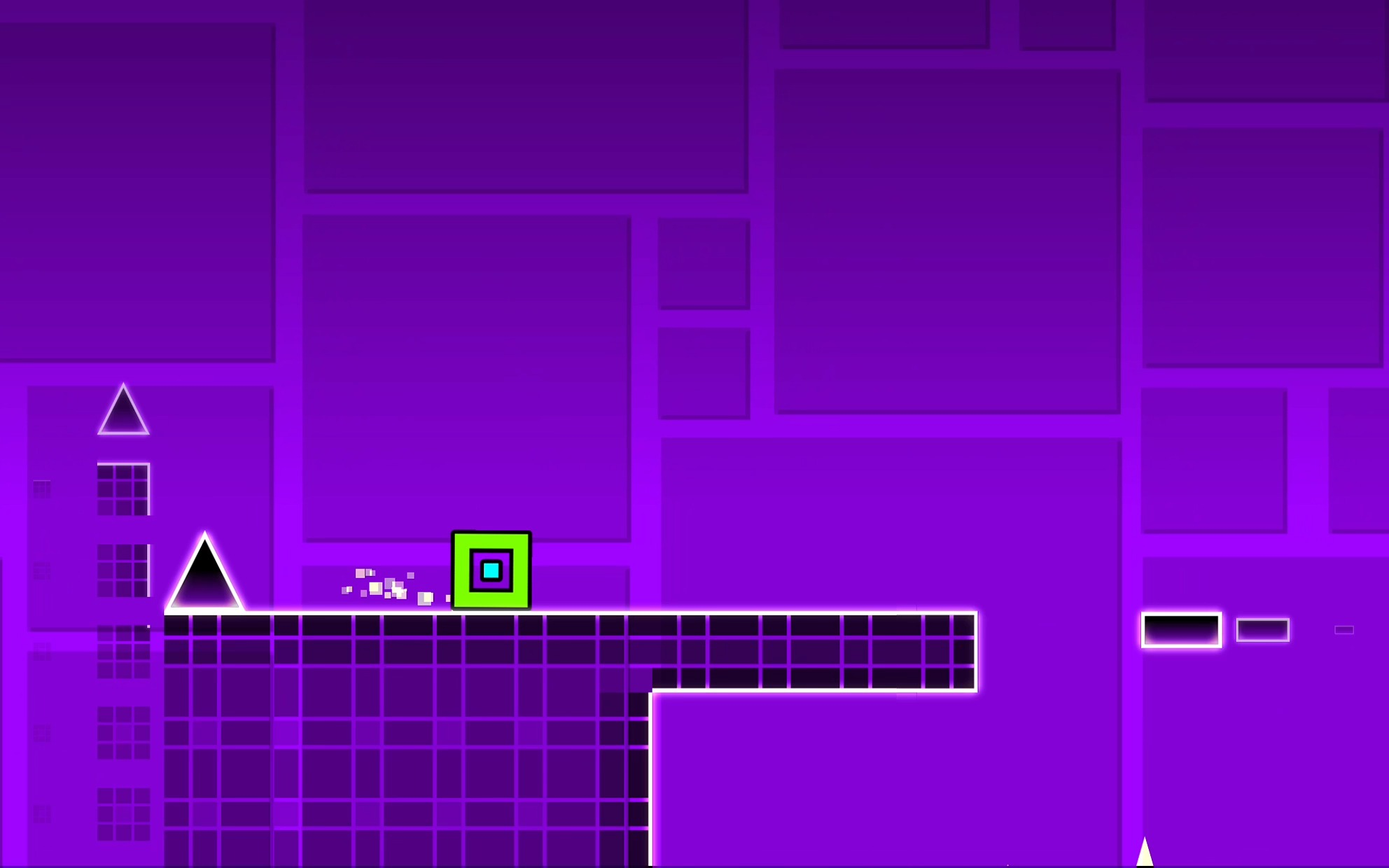Block2: (158, 610, 662, 863), (650, 612, 981, 689), (95, 461, 152, 868)
Block3: (1138, 612, 1222, 648), (1234, 617, 1290, 641)
Player: (449, 531, 531, 608)
Spike: (167, 531, 244, 612), (97, 384, 149, 434)
